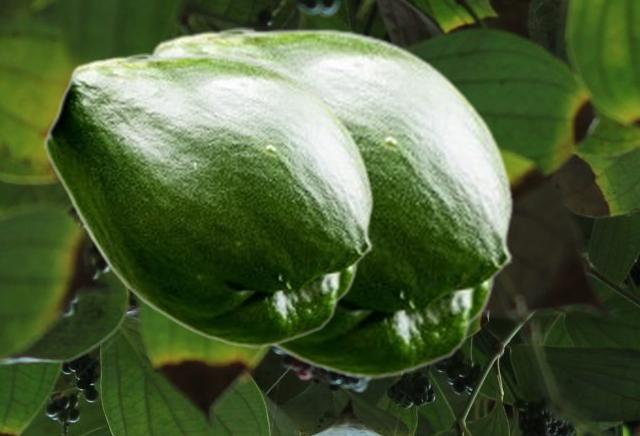sayote: (147, 27, 513, 378), (44, 53, 373, 347)
